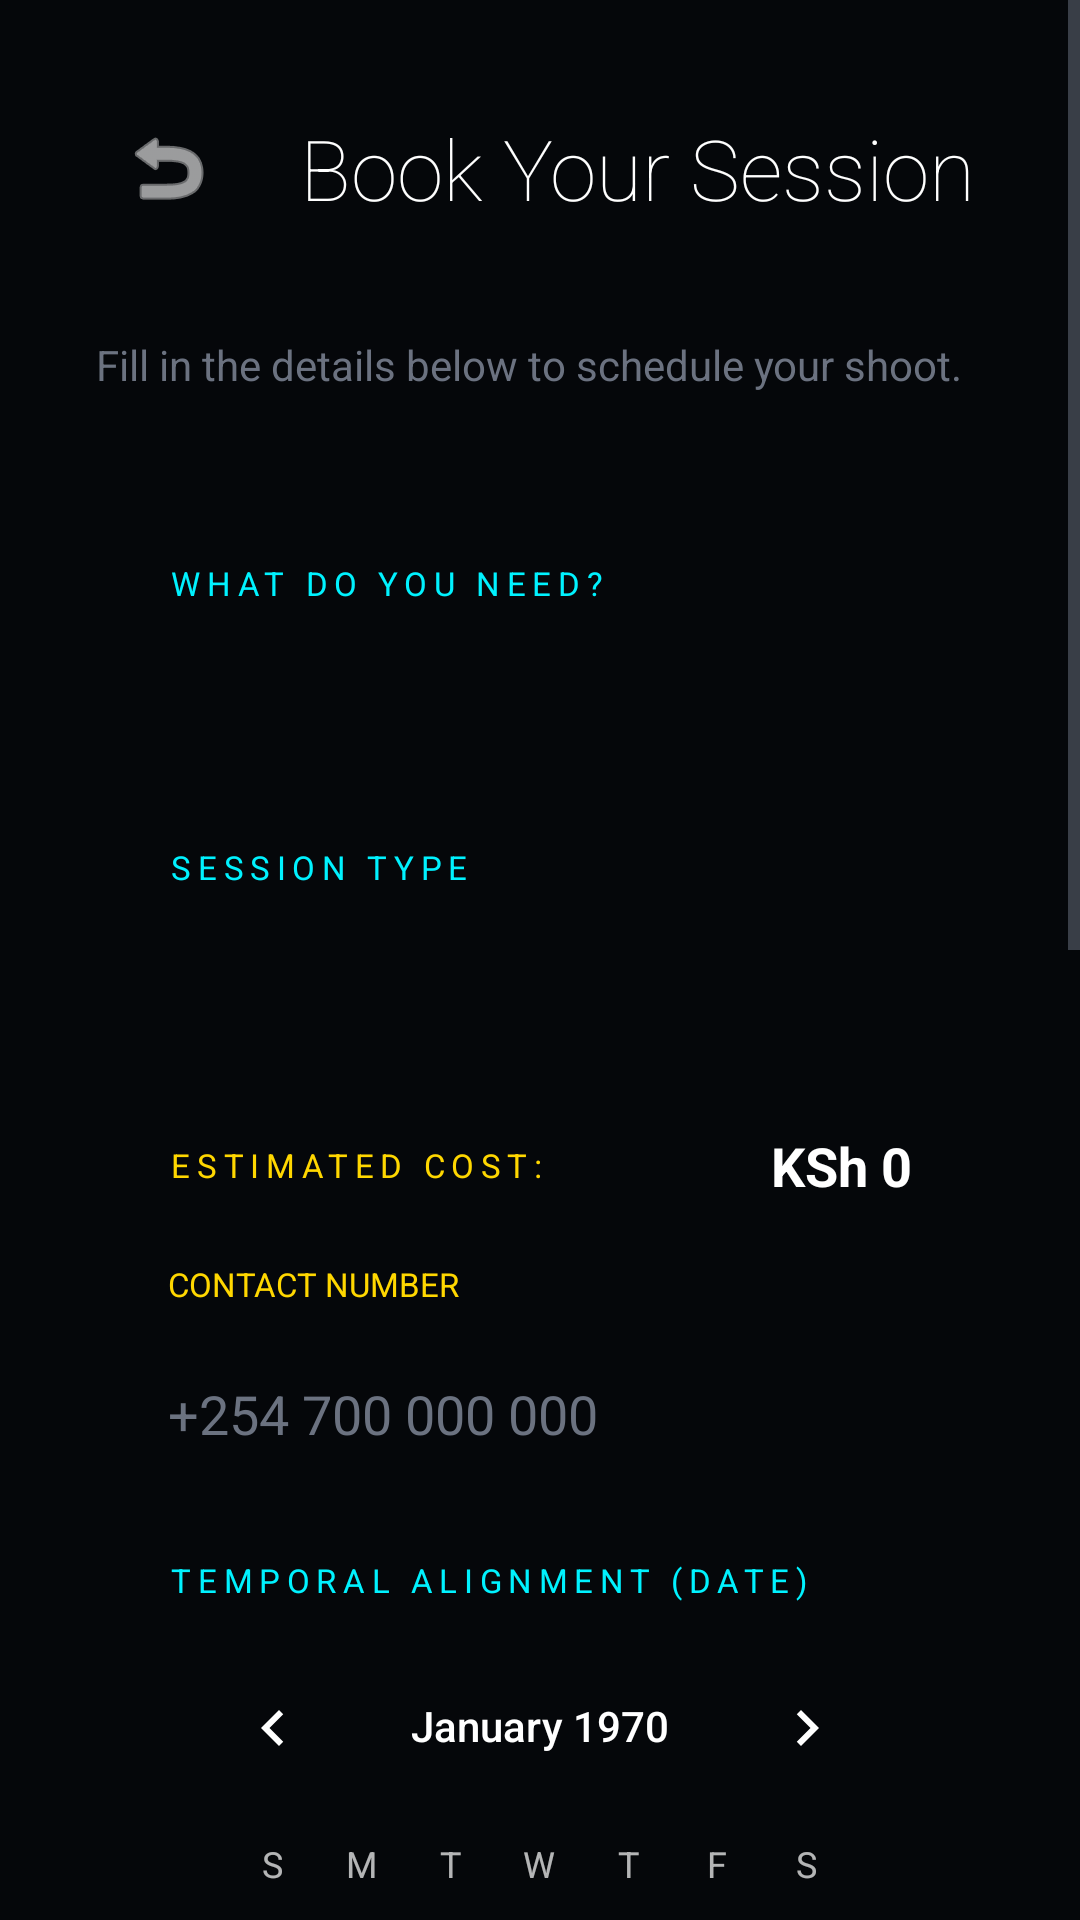

Where to tap for icons on this 1080w x 1920h app screen, as (x,y):
Back: (169,168)
